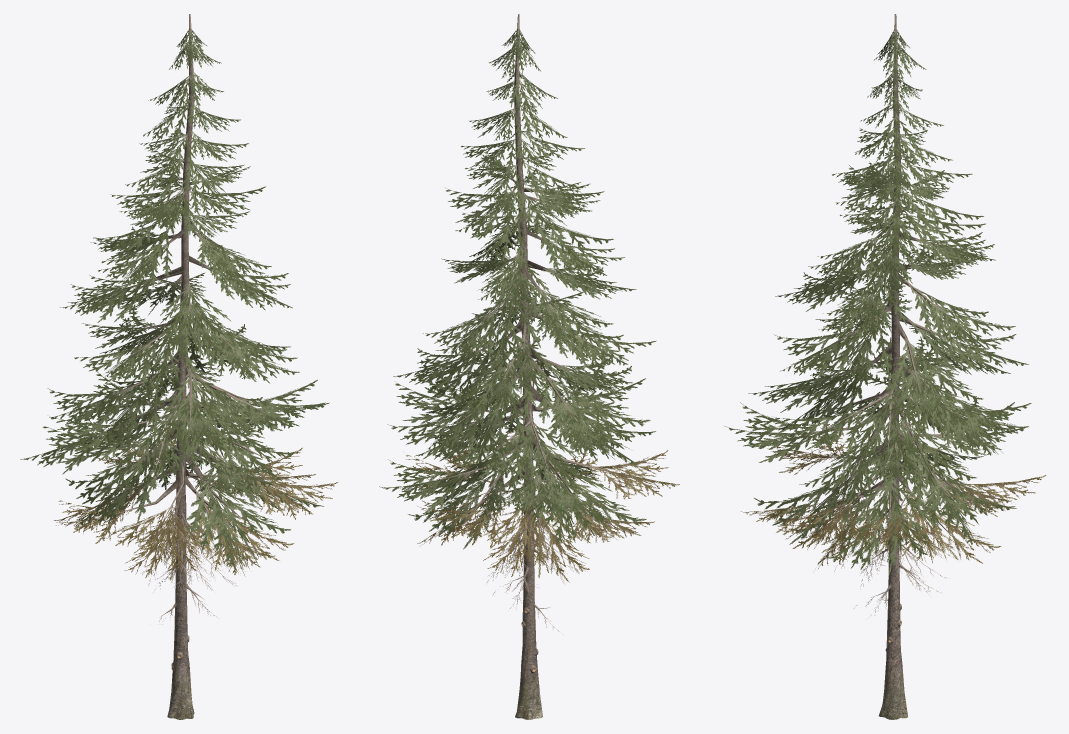
File: spruce1.fbx
The picture shows the model from 3 angles, left to right: view 1: azimuth 30°, elevation 25°; view 2: azimuth 150°, elevation 25°; view 3: azimuth 270°, elevation 25°; orthographic projection.
Visible parts, largest first — view 1: spruce 2_1, spruce 1_0; view 2: spruce 2_1, spruce 1_0; view 3: spruce 2_1, spruce 1_0.
Part boxes in pixels (x1=…): spruce 2_1: x1=20, y1=29, x2=337, y2=624; spruce 1_0: x1=94, y1=14, x2=276, y2=719; spruce 2_1: x1=379, y1=29, x2=679, y2=631; spruce 1_0: x1=433, y1=14, x2=608, y2=719; spruce 2_1: x1=724, y1=29, x2=1046, y2=615; spruce 1_0: x1=807, y1=14, x2=980, y2=719.
Size of the model in its own units: 837 by 2028 by 883.
Materials: 2 (2 with a texture image).
